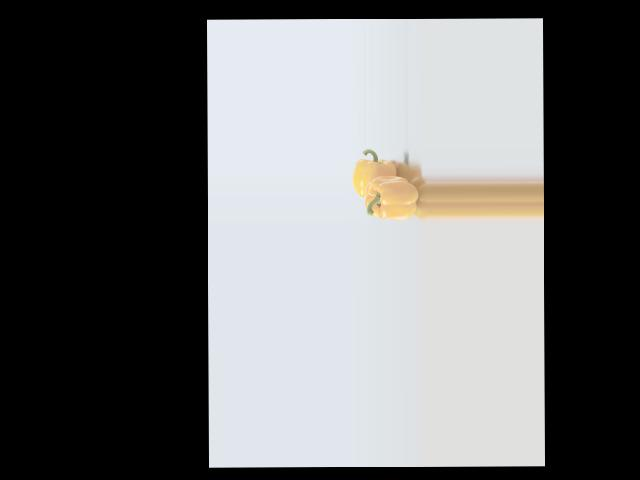bell_pepper: (352, 149, 404, 198)
